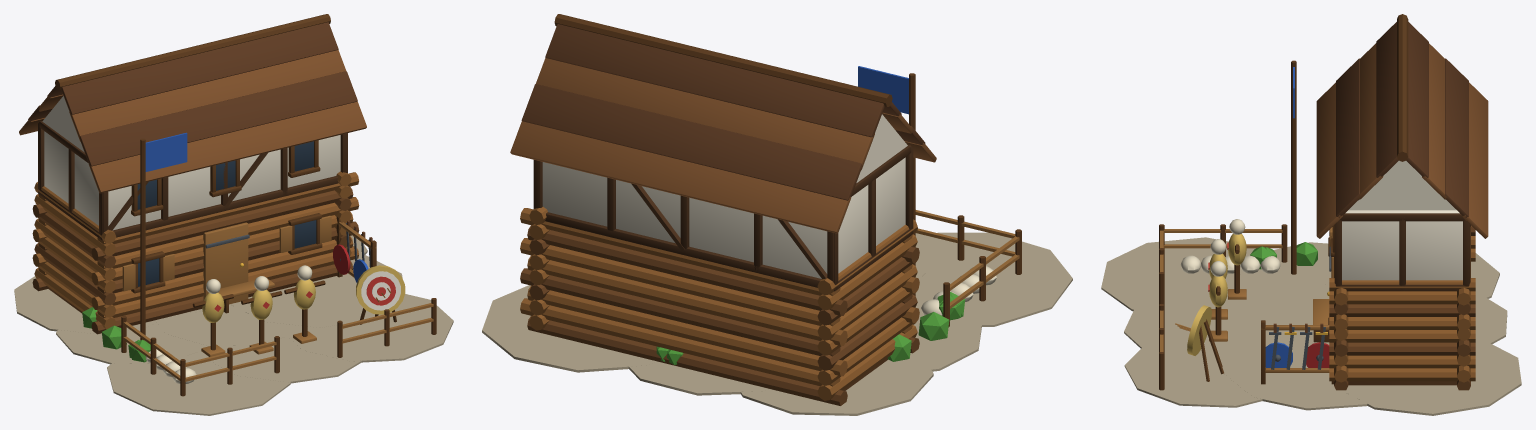
File: koszary_poz09.glb
3 views of the same model, side by side, from view 1: azimuth 30°, elevation 25°; view 2: azimuth 150°, elevation 25°; view 3: azimuth 270°, elevation 25° (orthographic). The views are drawn at different scales.
Visible parts, largest first — view 1: koszary_poz09; view 2: koszary_poz09; view 3: koszary_poz09.
Part boxes in pixels (left/top/right/bottom): koszary_poz09: left=14, top=14, right=453, bottom=415; koszary_poz09: left=482, top=14, right=1072, bottom=415; koszary_poz09: left=1101, top=14, right=1521, bottom=415.
Bounding box in the file's own units: 8.86 × 5.83 × 8.91.
